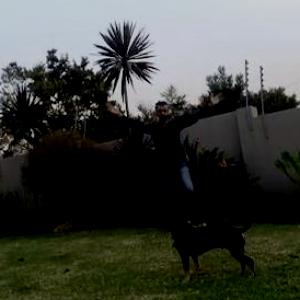takeoff: (100, 95, 219, 227)
